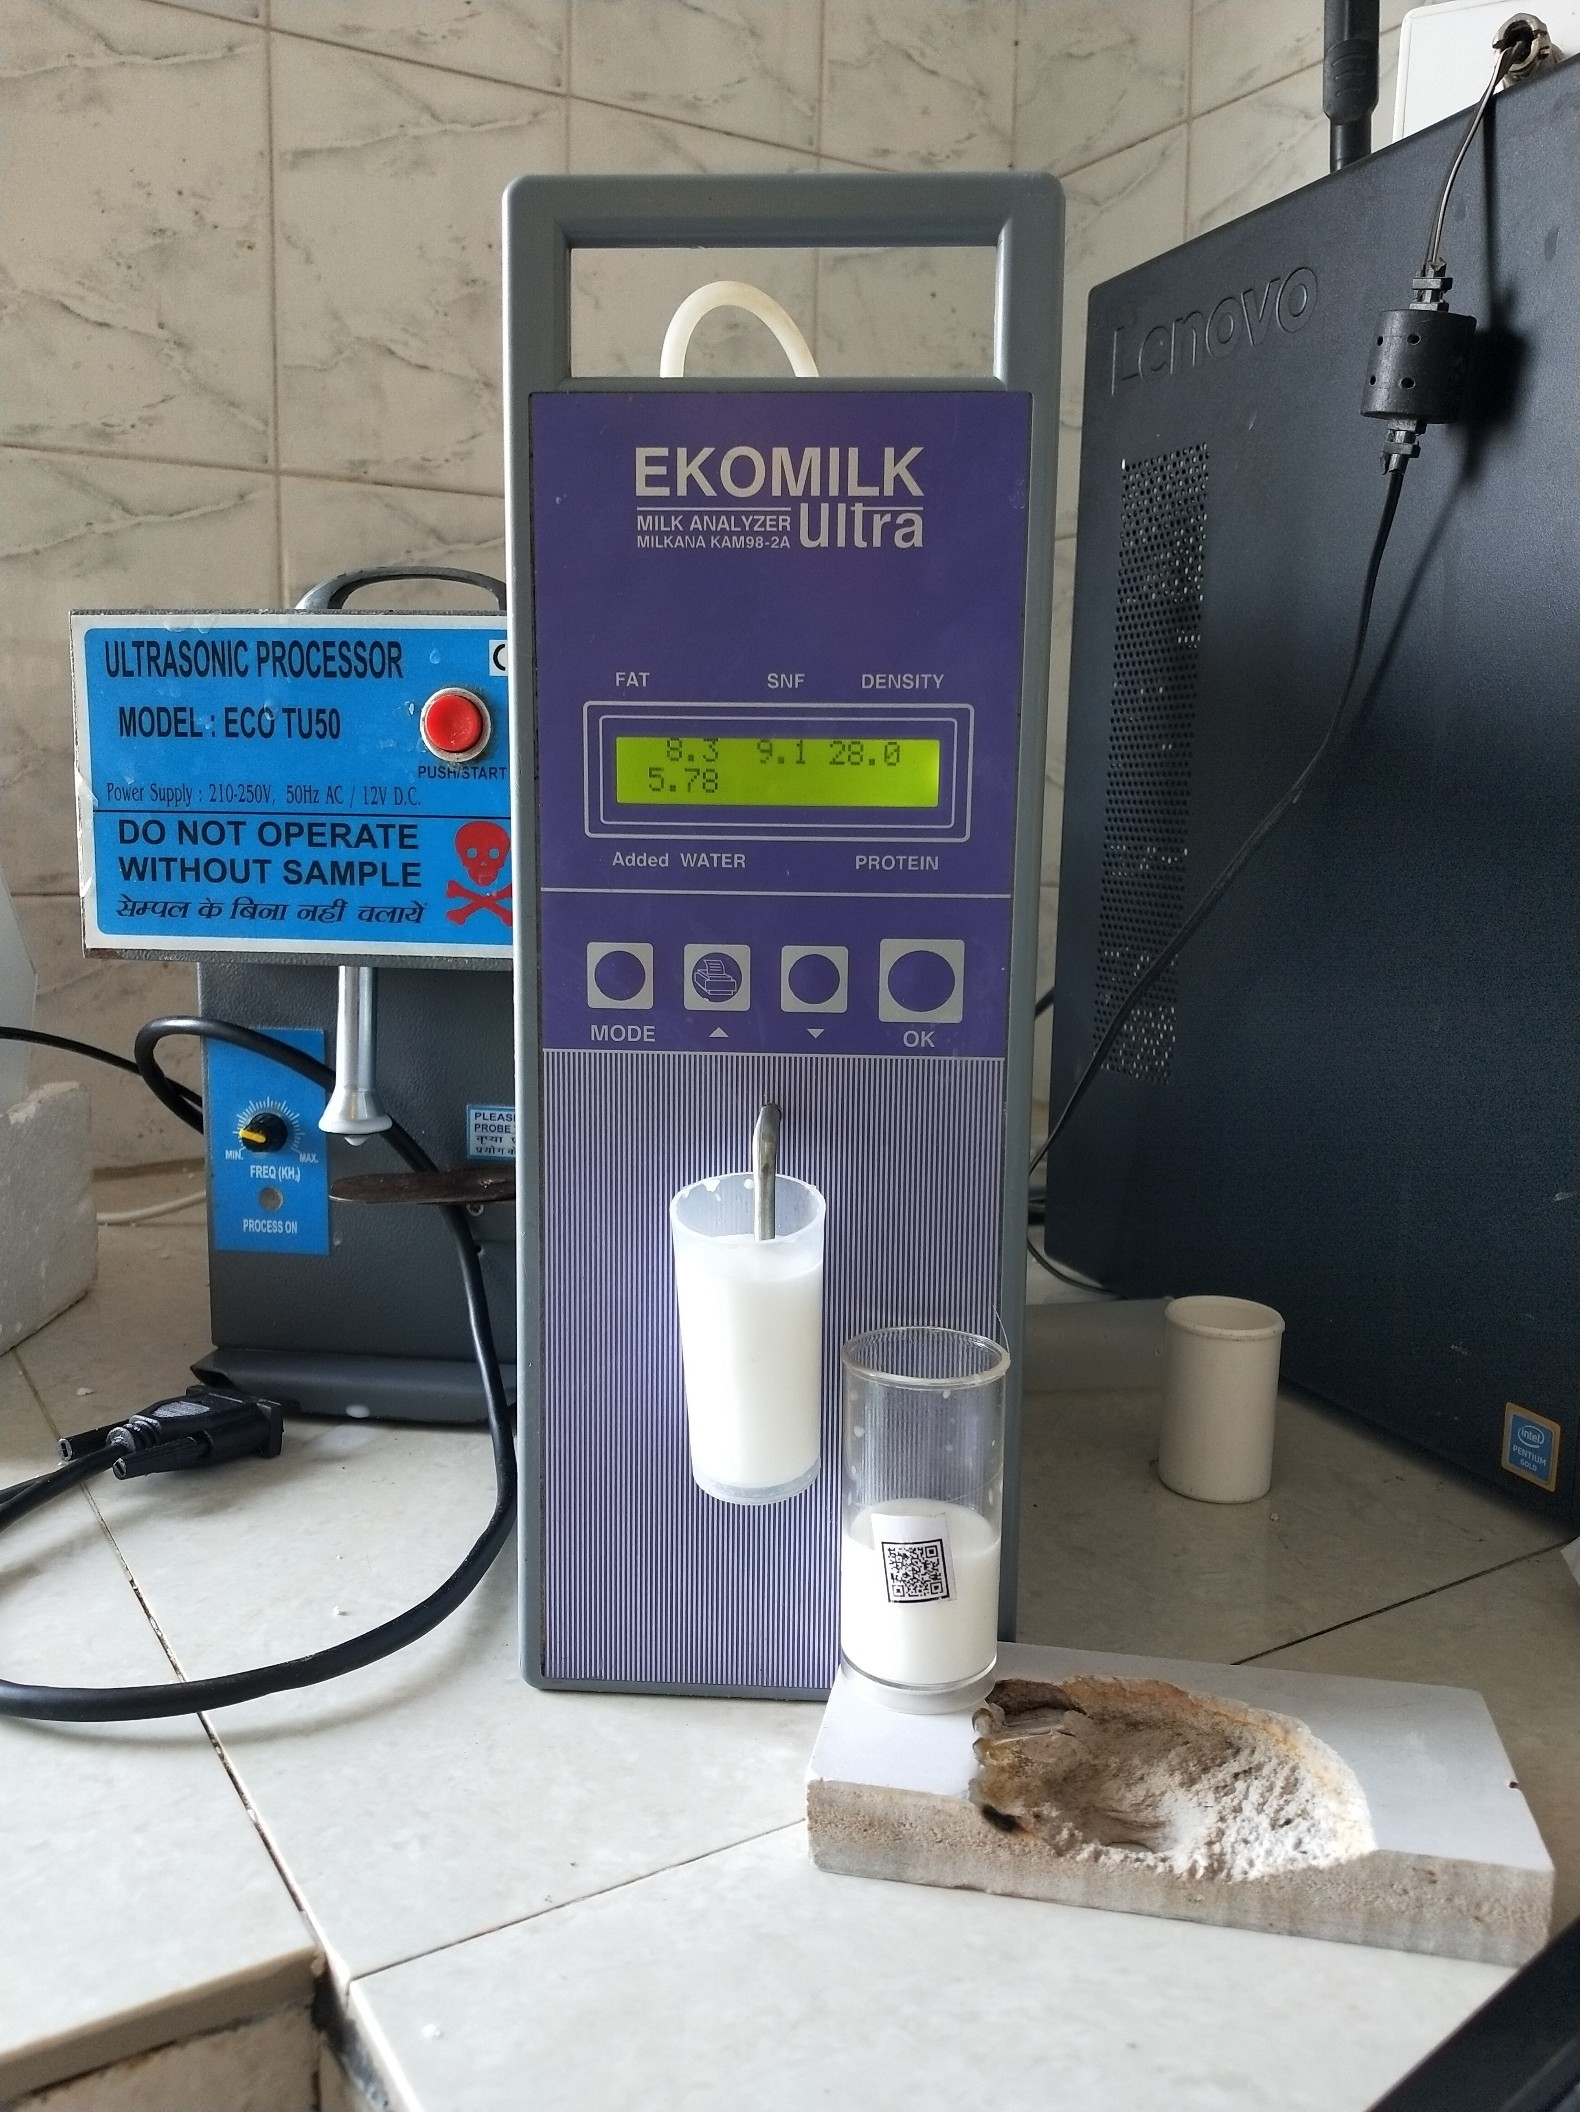lcd: (591, 713, 1012, 849)
qr: (868, 1523, 963, 1619)
